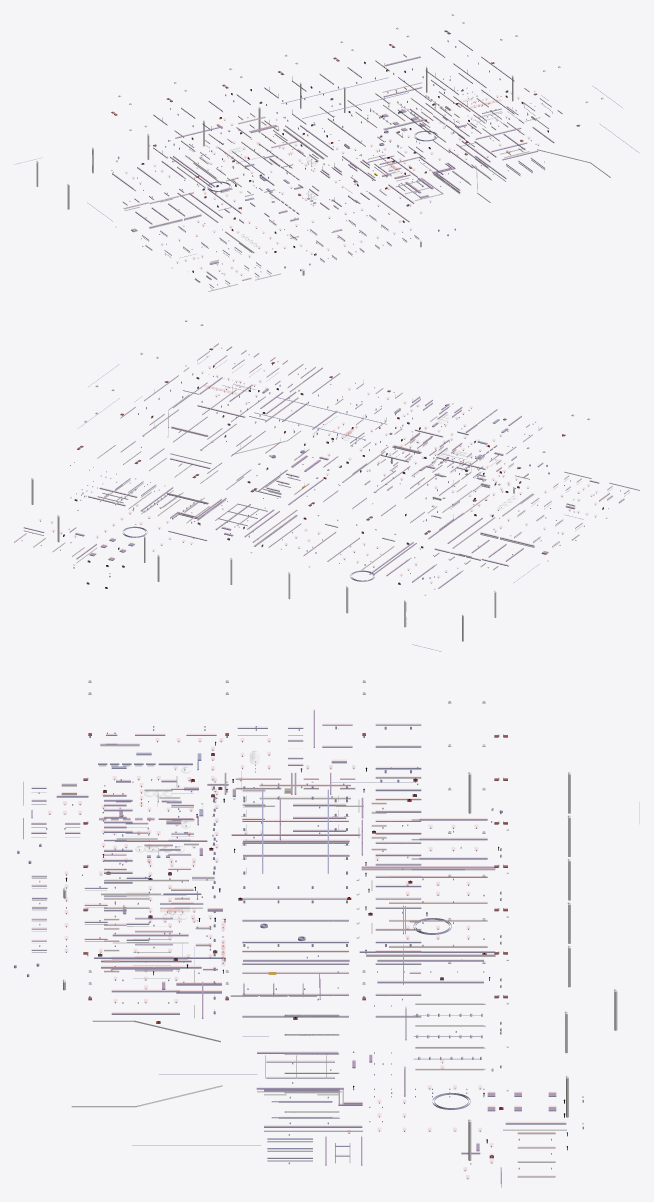
File: grimes-lighting.glb
3 renders of one model, top to bottom at view 1: azimuth 30°, elevation 25°; view 2: azimuth 150°, elevation 25°; view 3: azimuth 270°, elevation 25°, orthographic. The views are drawn at different scales.
Parts seen in each view (by area): view 1: layer:lighting; view 2: layer:lighting; view 3: layer:lighting.
Boxes of the visible parts, <box> form: layer:lighting: <box>14,14,639,291</box>; layer:lighting: <box>14,320,639,651</box>; layer:lighting: <box>14,680,639,1187</box>.
Size of what is drawn, in the model's own units: 69.33 by 18.53 by 50.14.
